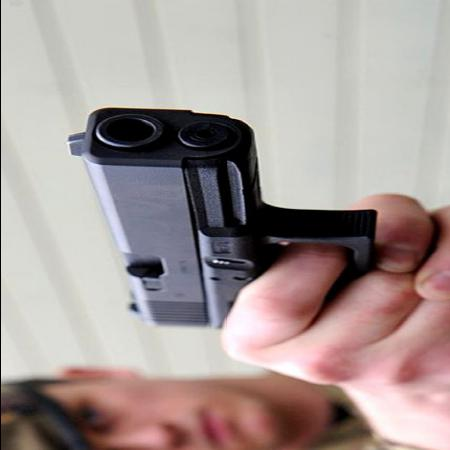Pistol: (60, 104, 386, 342)
